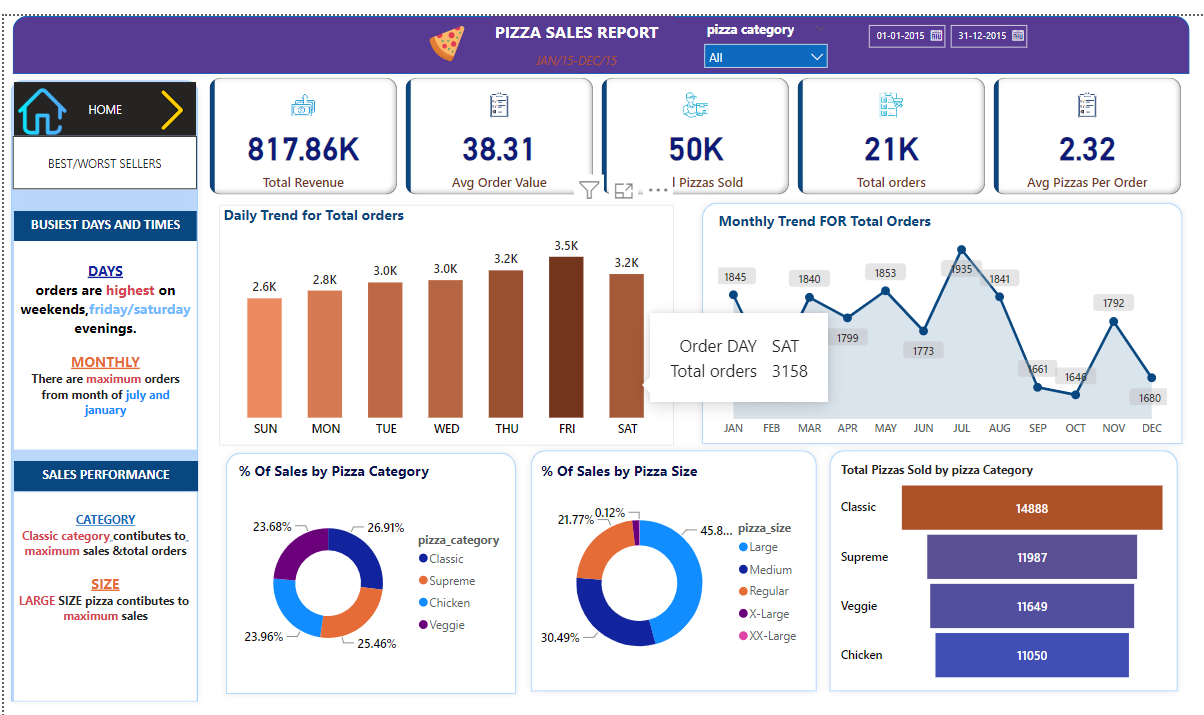

The page's visual inventory and layout, read from the dashboard file:
{"tool":"powerbi","page":{"name":"HOME","canvas":[1500,820],"ordinal":0},"visuals":[{"type":"cardVisual","fields":{"Data":["pizza_sales.Total Revenue","pizza_sales.Avg Order Value","pizza_sales.Total Pizzas Sold","pizza_sales.Total orders","pizza_sales.Avg Pizzas Per Order"]},"box":[230,65,1120,143.8],"z":0},{"type":"shape","box":[10,0,1345,66.2],"z":1000},{"type":"textbox","box":[602.5,37.5,126.2,27.5],"z":2000},{"type":"image","box":[453.8,6.2,103.8,51.2],"z":3000},{"type":"shape","box":[790,205,565,291.2],"z":4000},{"type":"areaChart","title":"Monthly Trend FOR Total Orders","fields":{"Category":["pizza_sales.Order Month"],"Y":["pizza_sales.Total orders"]},"box":[811.2,222.5,522.5,266.2],"z":5000},{"type":"columnChart","title":"Daily Trend for Total orders","fields":{"Category":["pizza_sales.Order DAY"],"Y":["pizza_sales.Total orders"]},"box":[246.2,216.2,520,275],"z":6000},{"type":"shape","box":[246.2,491.2,347.5,291.2],"z":7000},{"type":"shape","box":[593.8,488.8,342.5,291.2],"z":8000},{"type":"shape","box":[936.2,488.8,413.8,291.2],"z":9000},{"type":"donutChart","title":"% Of Sales by Pizza Category","fields":{"Category":["pizza_sales.pizza_category"],"Y":["pizza_sales.Total Revenue"]},"box":[262.5,508.8,315,257.5],"z":10000},{"type":"donutChart","title":"% Of Sales by Pizza Size","fields":{"Y":["pizza_sales.Total Revenue"],"Category":["pizza_sales.pizza_size"]},"box":[608.8,508.8,315,257.5],"z":11000},{"type":"funnel","title":"Total Pizzas Sold by pizza Category","fields":{"Category":["pizza_sales.pizza_category"],"Y":["pizza_sales.Total Pizzas Sold"]},"box":[951.2,508.8,382.5,257.5],"z":12000},{"type":"shape","box":[0,65.4,229.5,725.6],"z":13000},{"type":"textbox","box":[1350,496,150,284],"z":14000},{"type":"textbox","box":[11.5,223.1,209,34.6],"z":15000},{"type":"textbox","box":[11.5,257.7,209,238.5],"z":16000},{"type":"textbox","box":[11.5,509,210.3,34.6],"z":17000},{"type":"textbox","box":[11.5,543.6,209,238.5],"z":18000},{"type":"slicer","fields":{"Values":["pizza_sales.pizza_category"]},"box":[789.7,0,161.5,64.1],"z":19000},{"type":"textbox","box":[555.1,0,210.3,37.2],"z":20000},{"type":"slicer","fields":{"Values":["pizza_sales.order_date"]},"box":[975,0,217.5,65],"z":21000},{"type":"pageNavigator","box":[11.2,76.2,208.8,61.2],"z":21001},{"type":"pageNavigator","box":[10,137.5,210,61.2],"z":21002},{"type":"image","box":[165,77.5,56.2,61.2],"z":21003},{"type":"image","box":[11.2,73.8,65,68.8],"z":21004}]}

Visuals, with their boxes on the page's 1500x820 design canvas (x1, y1, x2, y2). These are canvas units, not pixel positions in the 1204x715 screenshot, which may show the page scaled, cropped or inside an application window:
cardVisual - pizza_sales.Total Revenue x pizza_sales.Avg Order Value: <region>230, 65, 1350, 209</region>
shape: <region>10, 0, 1355, 66</region>
textbox: <region>602, 38, 729, 65</region>
image: <region>454, 6, 558, 57</region>
shape: <region>790, 205, 1355, 496</region>
"Monthly Trend FOR Total Orders" areaChart: <region>811, 222, 1334, 489</region>
"Daily Trend for Total orders" columnChart: <region>246, 216, 766, 491</region>
shape: <region>246, 491, 594, 782</region>
shape: <region>594, 489, 936, 780</region>
shape: <region>936, 489, 1350, 780</region>
"% Of Sales by Pizza Category" donutChart: <region>262, 509, 578, 766</region>
"% Of Sales by Pizza Size" donutChart: <region>609, 509, 924, 766</region>
"Total Pizzas Sold by pizza Category" funnel: <region>951, 509, 1334, 766</region>
shape: <region>0, 65, 230, 791</region>
textbox: <region>1350, 496, 1500, 780</region>
textbox: <region>12, 223, 220, 258</region>
textbox: <region>12, 258, 220, 496</region>
textbox: <region>12, 509, 222, 544</region>
textbox: <region>12, 544, 220, 782</region>
slicer - pizza_sales.pizza_category: <region>790, 0, 951, 64</region>
textbox: <region>555, 0, 765, 37</region>
slicer - pizza_sales.order_date: <region>975, 0, 1192, 65</region>
pageNavigator: <region>11, 76, 220, 137</region>
pageNavigator: <region>10, 138, 220, 199</region>
image: <region>165, 78, 221, 139</region>
image: <region>11, 74, 76, 143</region>
